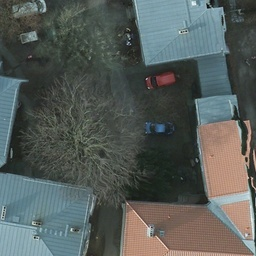car: (145, 72, 180, 90), (142, 119, 175, 136)
van: (11, 1, 47, 18)
